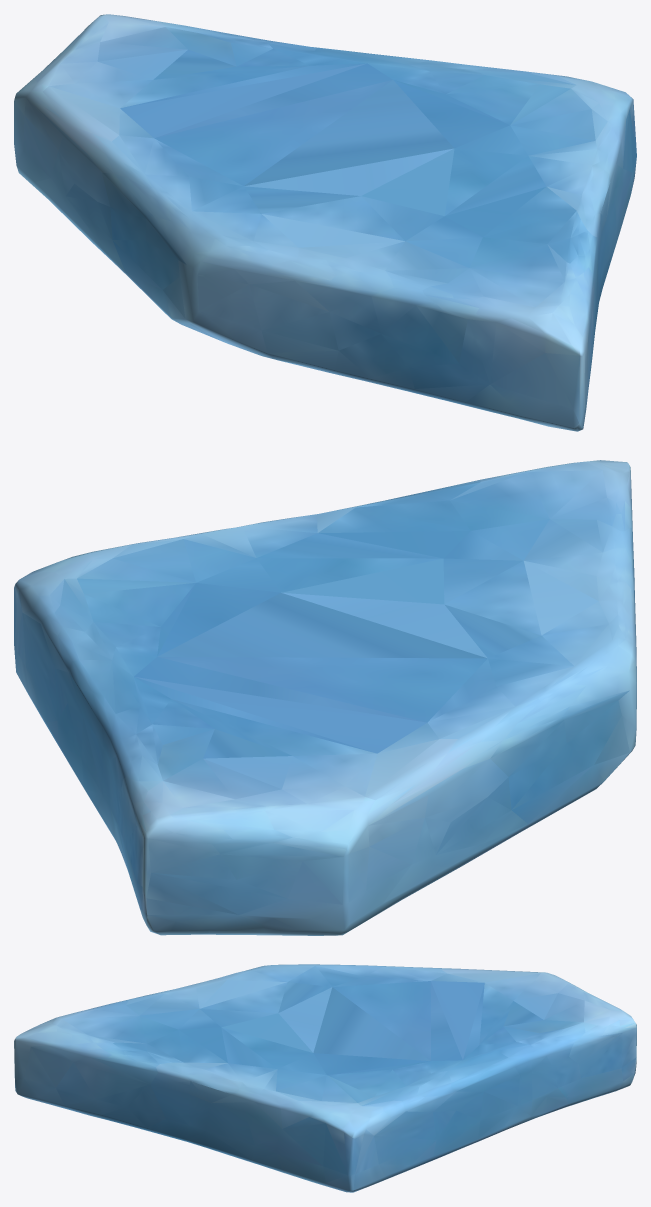
File: placa_hielo_rota_0_1200.glb
3 views of the same model, one above another, from view 1: azimuth 30°, elevation 25°; view 2: azimuth 150°, elevation 25°; view 3: azimuth 270°, elevation 25° (orthographic). The views are drawn at different scales.
Visible parts, largest first — view 1: placa_hielo_rota_0_malla; view 2: placa_hielo_rota_0_malla; view 3: placa_hielo_rota_0_malla.
Part boxes in pixels (bbox=[...]): placa_hielo_rota_0_malla: bbox=[14, 14, 636, 431]; placa_hielo_rota_0_malla: bbox=[14, 460, 636, 935]; placa_hielo_rota_0_malla: bbox=[14, 964, 636, 1192].
Bounding box in the file's own units: 0.1313 × 0.0277 × 0.2071.
Materials: 1 (1 with a texture image).
